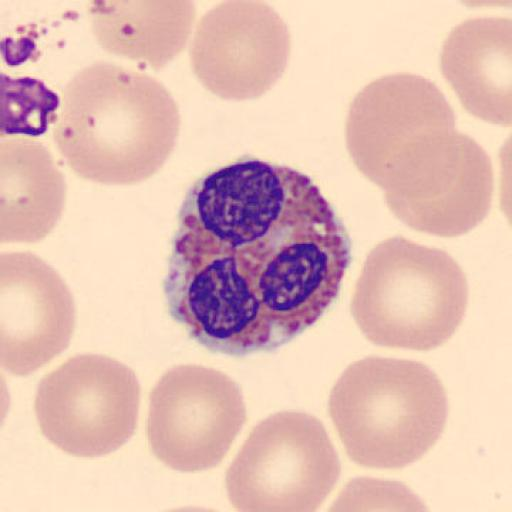Platelet: (0, 69, 64, 138)
RBC: (52, 58, 183, 190), (325, 352, 452, 473), (350, 232, 472, 353), (377, 127, 495, 240), (345, 70, 457, 188), (224, 407, 343, 511), (32, 350, 142, 460), (144, 360, 248, 474), (188, 0, 294, 103), (2, 247, 78, 378), (439, 14, 512, 128), (86, 1, 197, 71), (2, 137, 68, 247), (315, 472, 436, 512), (498, 128, 512, 234), (0, 366, 14, 438), (139, 503, 244, 512), (445, 0, 512, 11)
WBC: (162, 156, 353, 357)
